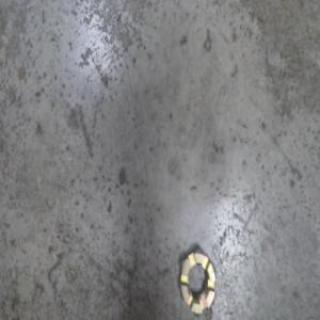Nuttrack_idkeyframe: (179, 242, 216, 315)
